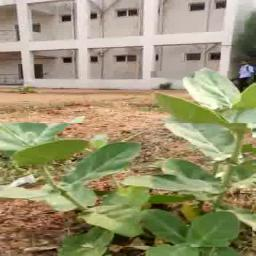Calotropis: (0, 124, 253, 248), (151, 71, 255, 122)
